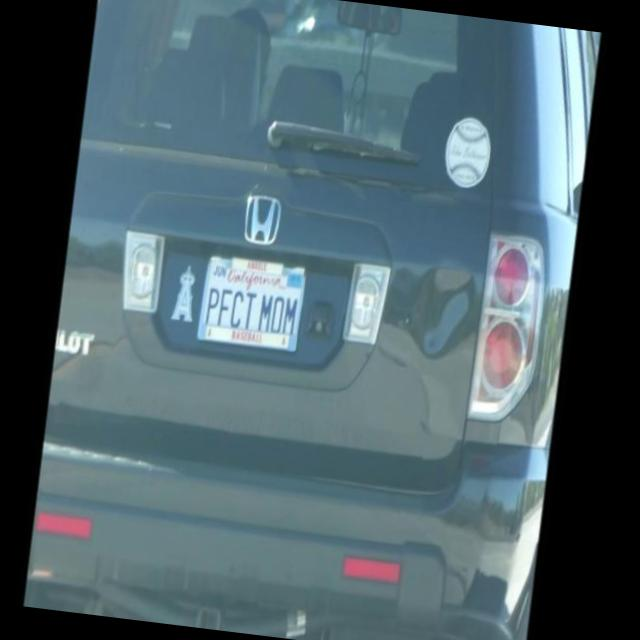LicensePlate: (186, 238, 322, 380)
